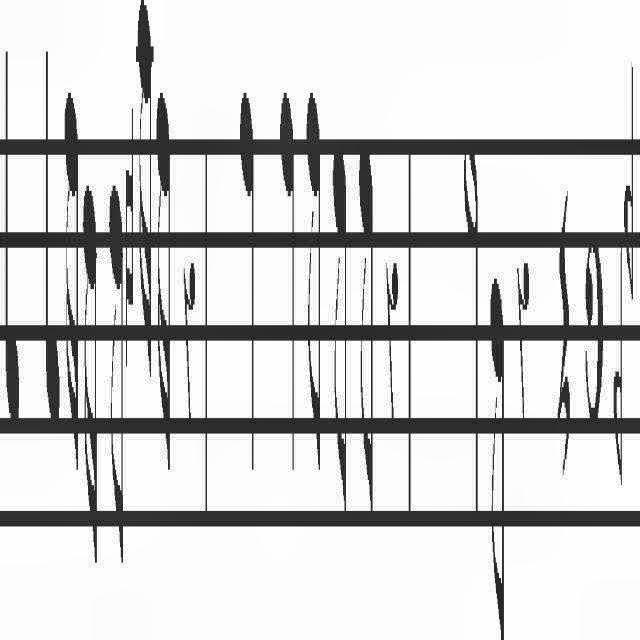Bemol: (622, 31, 638, 299), (612, 236, 624, 528)
Eighth-note: (302, 78, 326, 502), (329, 118, 351, 558), (274, 78, 298, 480), (485, 263, 508, 640), (353, 130, 375, 514), (237, 64, 255, 486), (110, 154, 124, 596)
Eighth-rest: (382, 232, 400, 484), (182, 232, 198, 444), (516, 217, 530, 441)
Half-note: (458, 86, 482, 558)
Quarter-note: (1, 23, 26, 444), (42, 31, 58, 428)
Quarter-rest: (556, 184, 576, 540)
Sixteenth-note: (80, 170, 100, 602), (155, 60, 173, 484), (136, 0, 154, 392), (63, 68, 79, 464)
